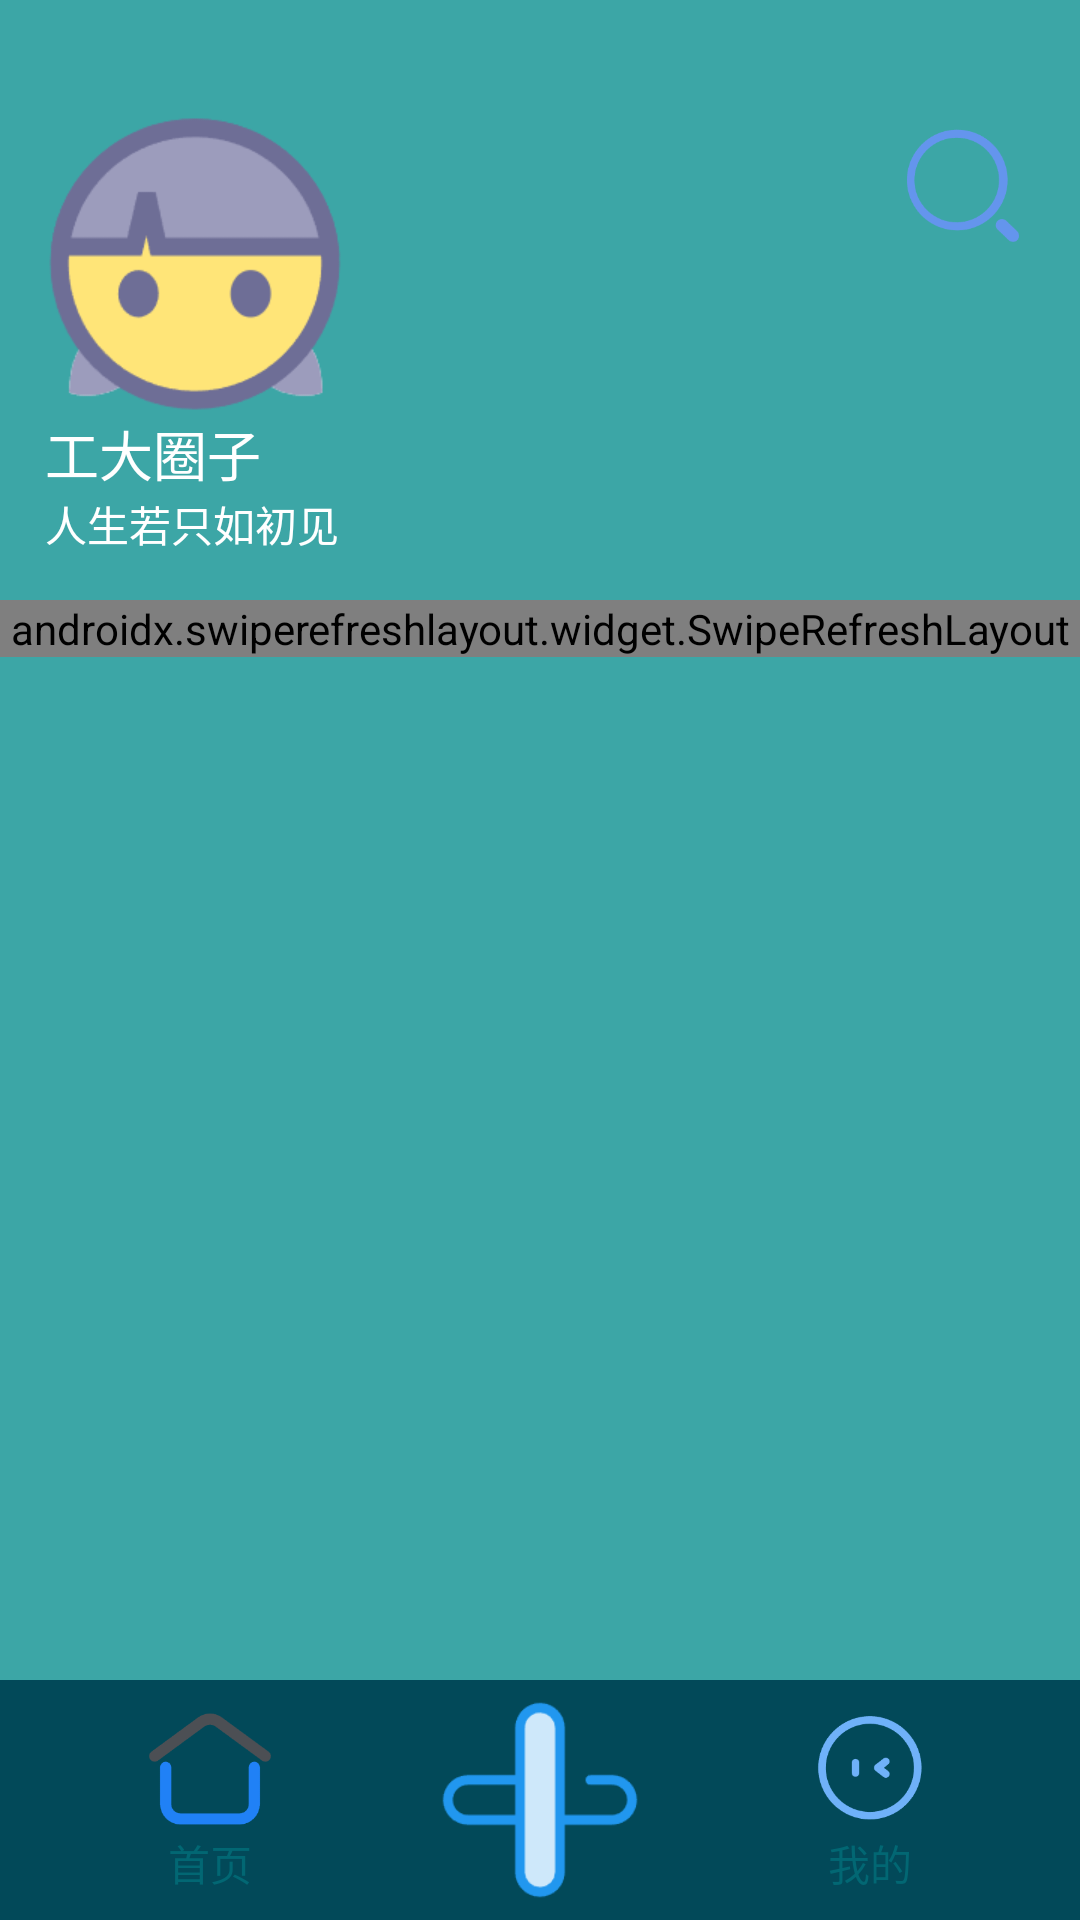

Icon bounding boxes for this 1080px×1920px phone screenshot, format (x1, y1, x2, y2):
insert: (442, 1702, 638, 1897)
搜索: (907, 130, 1019, 242)
